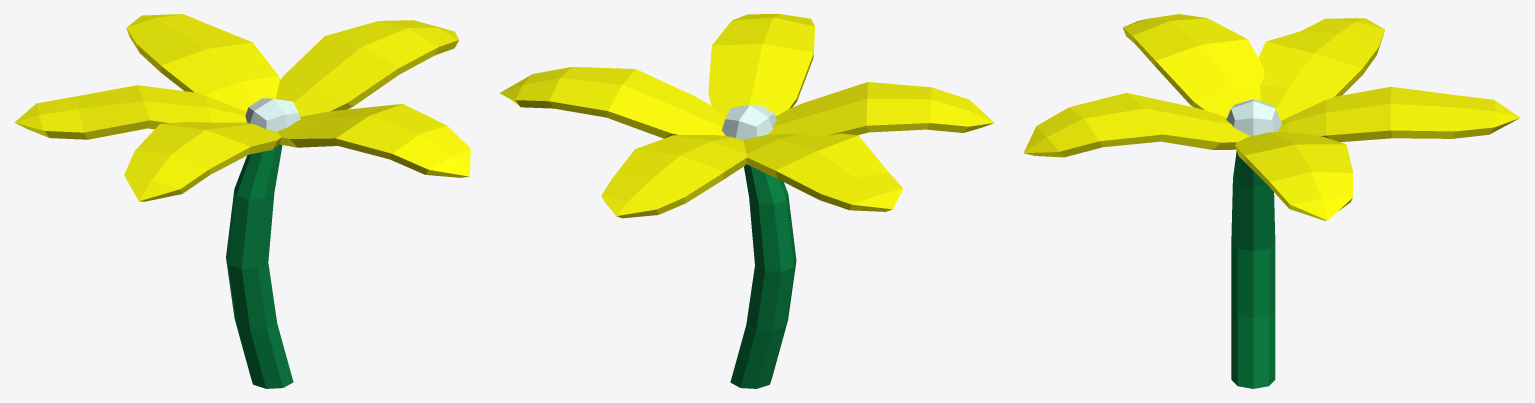
The model's file is Flower1.fbx.
The picture shows the model from 3 angles, left to right: view 1: azimuth 30°, elevation 25°; view 2: azimuth 150°, elevation 25°; view 3: azimuth 270°, elevation 25°; orthographic projection. The views are drawn at different scales.
Parts seen in each view (by area): view 1: Flower1; view 2: Flower1; view 3: Flower1.
Boxes of the visible parts, x1,y1,x2,y2 form: Flower1: (14, 14, 470, 388); Flower1: (499, 14, 994, 388); Flower1: (1024, 14, 1520, 388).
Size of the model in its own units: 23.59 by 15.7 by 24.22.
Materials: 1 (1 with a texture image).
